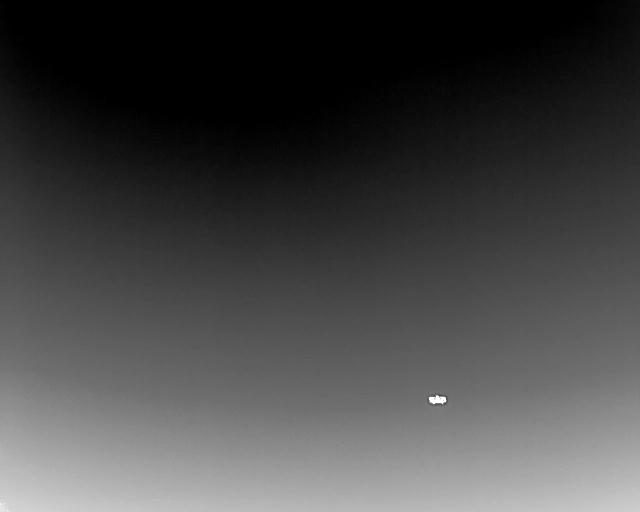fpv-drone: (428, 394, 448, 405)
